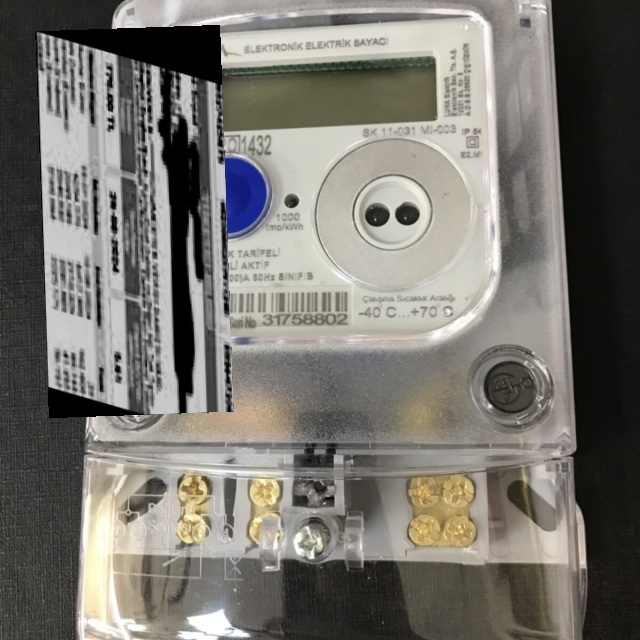electricity-bill: (35, 25, 233, 418)
